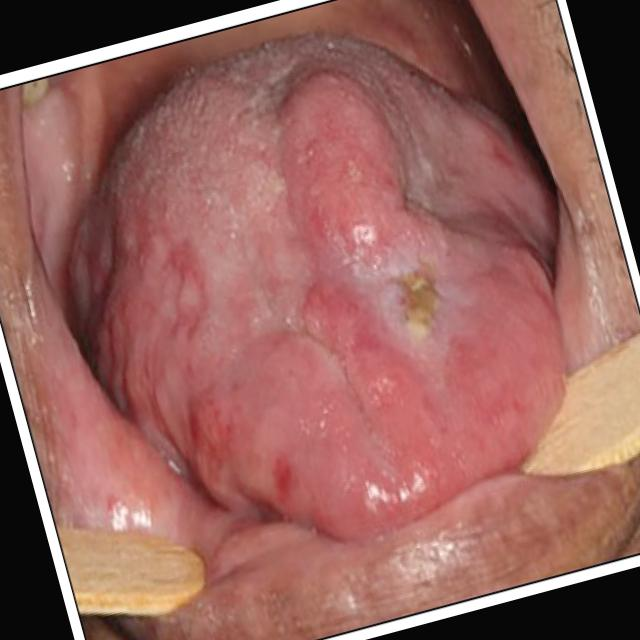Cancer: (117, 205, 270, 515), (364, 239, 468, 349)
